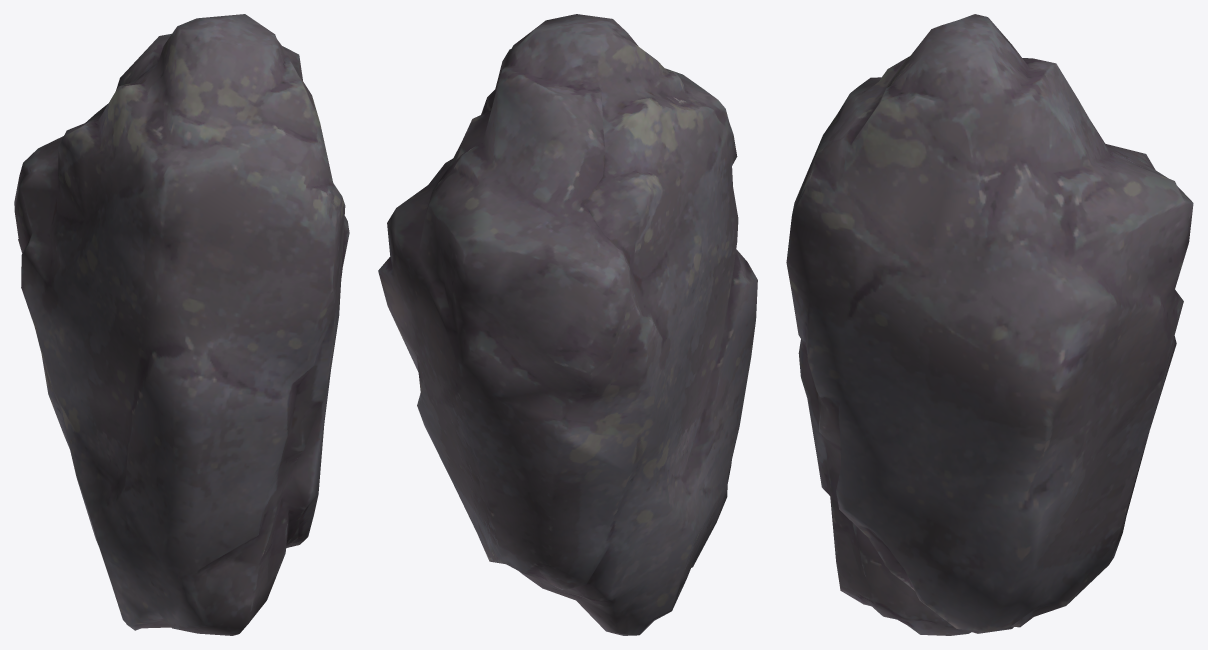
File: Homeworld_Exterior_Common_Stone_Rockwork_02.fbx
3 views of the same model, side by side, from view 1: azimuth 30°, elevation 25°; view 2: azimuth 150°, elevation 25°; view 3: azimuth 270°, elevation 25° (orthographic). The views are drawn at different scales.
Parts seen in each view (by area): view 1: Area_Dq_Rock_MS_Full_S_05_Lod0; view 2: Area_Dq_Rock_MS_Full_S_05_Lod0; view 3: Area_Dq_Rock_MS_Full_S_05_Lod0.
Part boxes in pixels (left/top/right/bottom): Area_Dq_Rock_MS_Full_S_05_Lod0: left=14, top=14, right=349, bottom=635; Area_Dq_Rock_MS_Full_S_05_Lod0: left=378, top=14, right=757, bottom=635; Area_Dq_Rock_MS_Full_S_05_Lod0: left=786, top=14, right=1193, bottom=635.
Bounding box in the file's own units: 4.51 × 8.72 × 5.12.
1 material, 1 textured.
